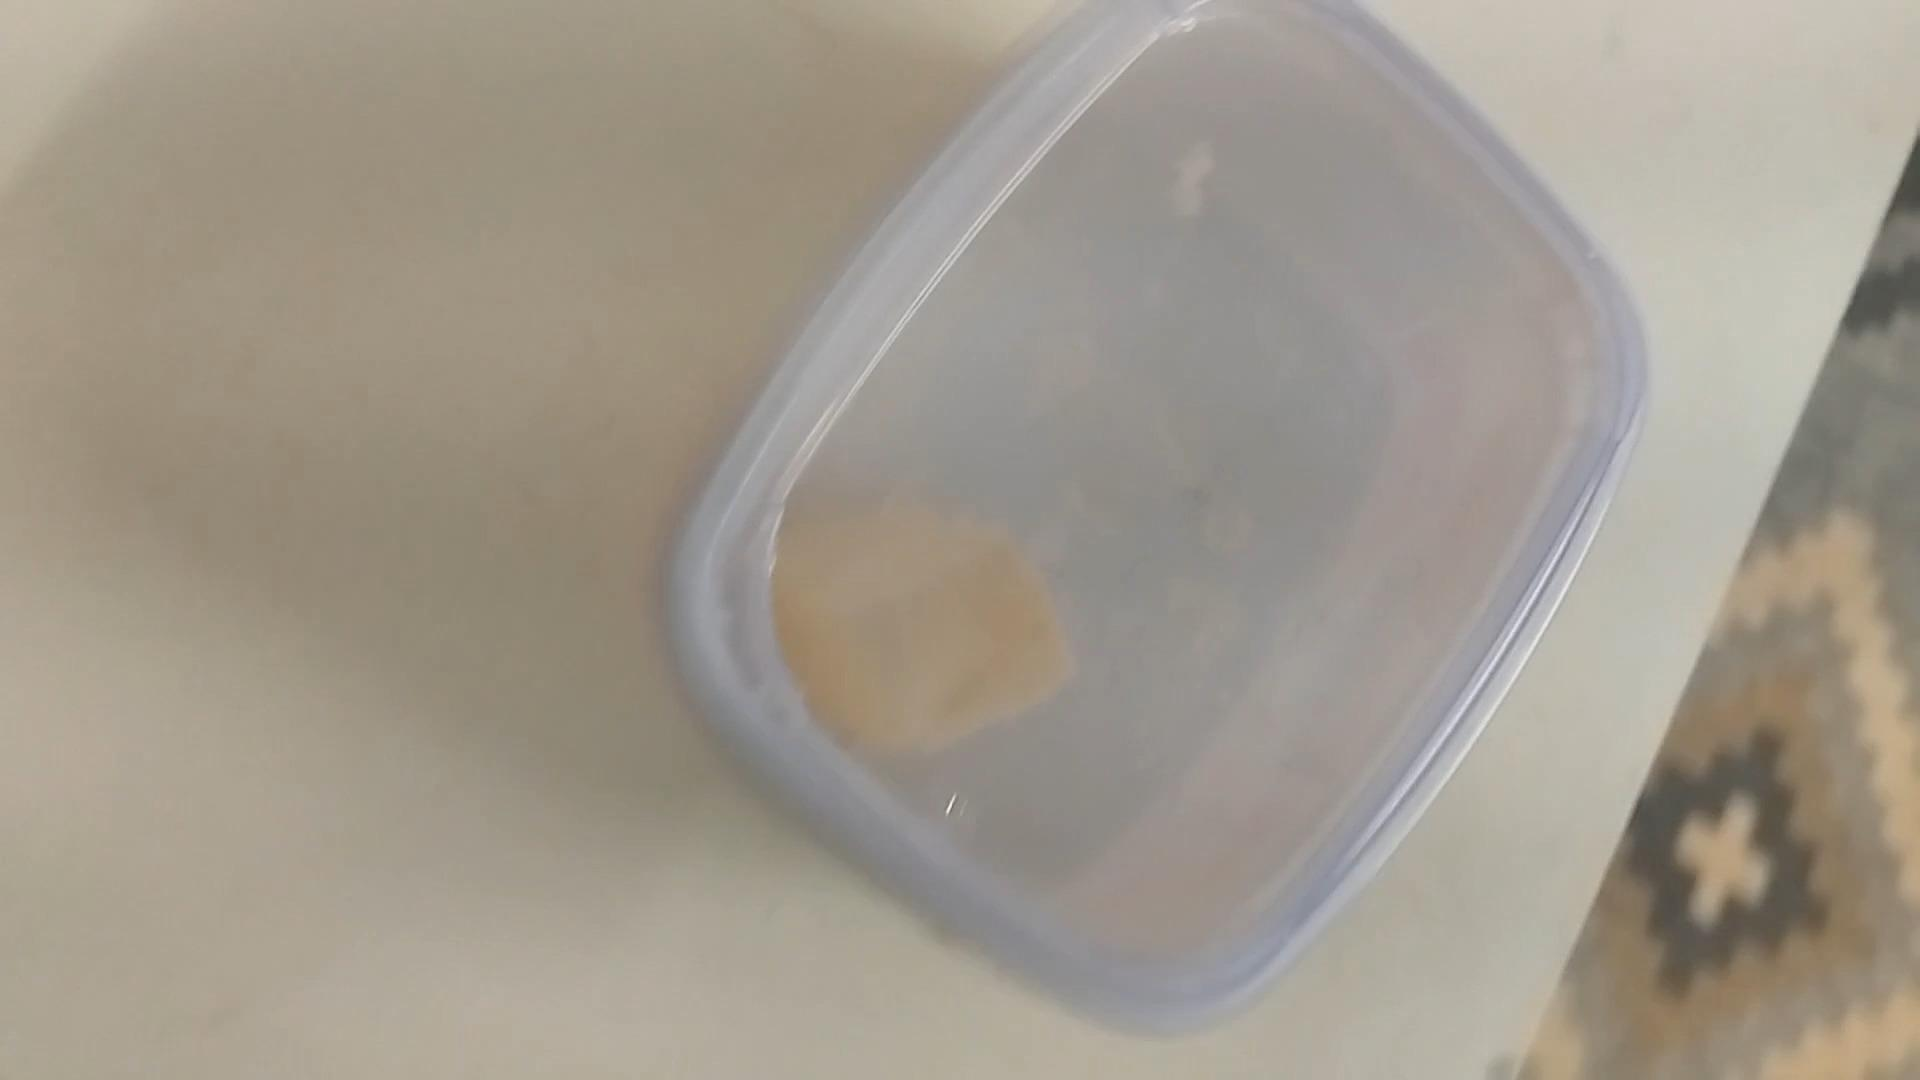butter: (661, 3, 1638, 1038)
